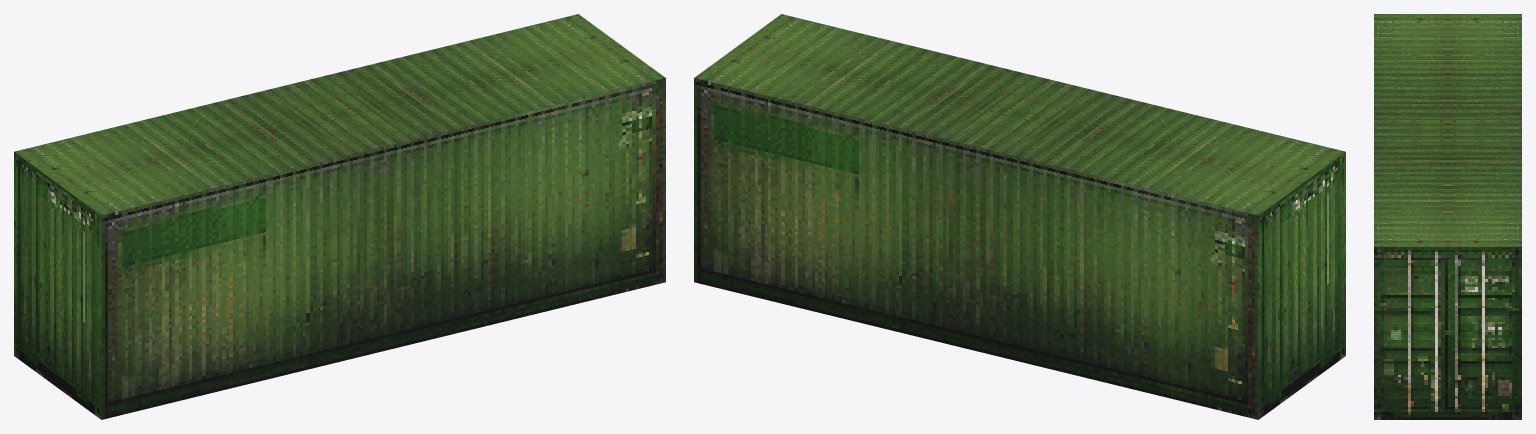
File: container_7.glb
3 views of the same model, side by side, from view 1: azimuth 30°, elevation 25°; view 2: azimuth 150°, elevation 25°; view 3: azimuth 270°, elevation 25° (orthographic). The views are drawn at different scales.
Parts seen in each view (by area): view 1: Object_72; view 2: Object_72; view 3: Object_72.
Boxes of the visible parts, bbox=[...] form: Object_72: bbox=[14, 14, 665, 419]; Object_72: bbox=[694, 14, 1345, 419]; Object_72: bbox=[1374, 14, 1521, 419].
Bounding box in the file's own units: 6.06 × 2.1 × 1.63.
1 material, 1 textured.
